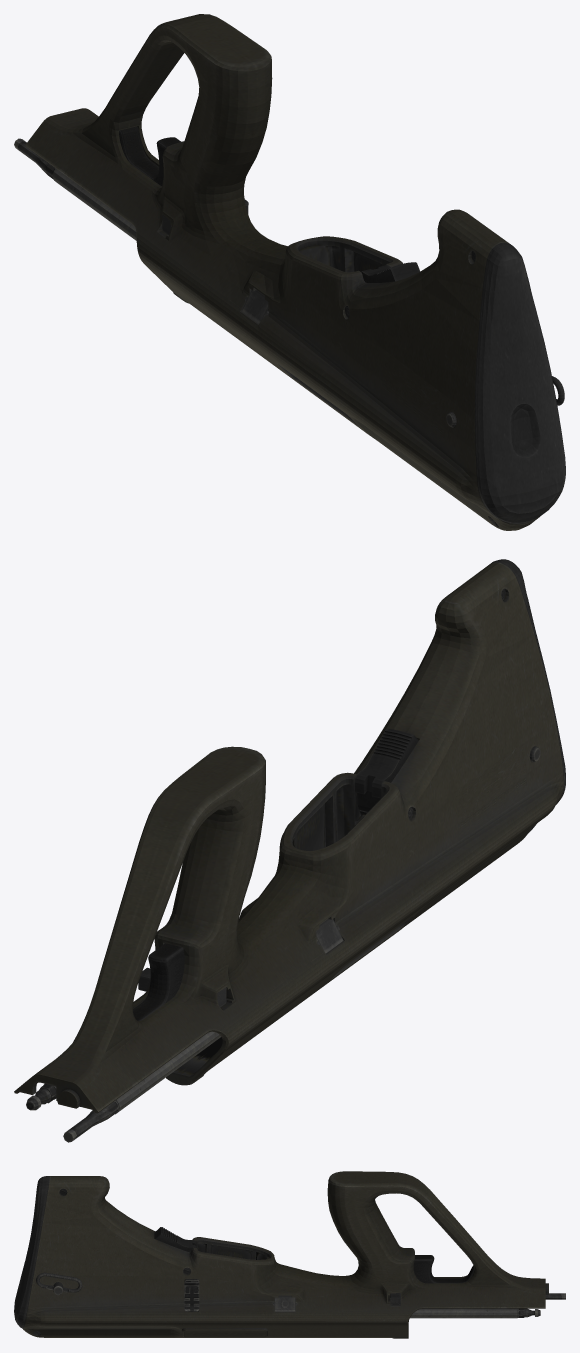
The picture shows the model from 3 angles, top to bottom: view 1: azimuth 30°, elevation 25°; view 2: azimuth 150°, elevation 25°; view 3: azimuth 270°, elevation 25°; orthographic projection. The views are drawn at different scales.
Visible parts, largest first — view 1: TW_63171672192e68c5460cebc5_PZ_Import; view 2: TW_63171672192e68c5460cebc5_PZ_Import; view 3: TW_63171672192e68c5460cebc5_PZ_Import.
Part boxes in pixels (bbox=[...]): TW_63171672192e68c5460cebc5_PZ_Import: bbox=[14, 14, 565, 530]; TW_63171672192e68c5460cebc5_PZ_Import: bbox=[14, 559, 565, 1142]; TW_63171672192e68c5460cebc5_PZ_Import: bbox=[14, 1171, 565, 1338].
Bounding box in the file's own units: 0.0383 × 0.301 × 0.0966.
1 material, 1 textured.
